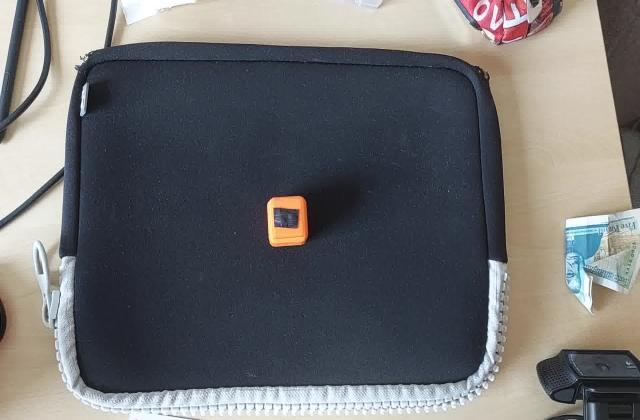black: (269, 206, 302, 231)
sticker: (264, 194, 310, 250)
